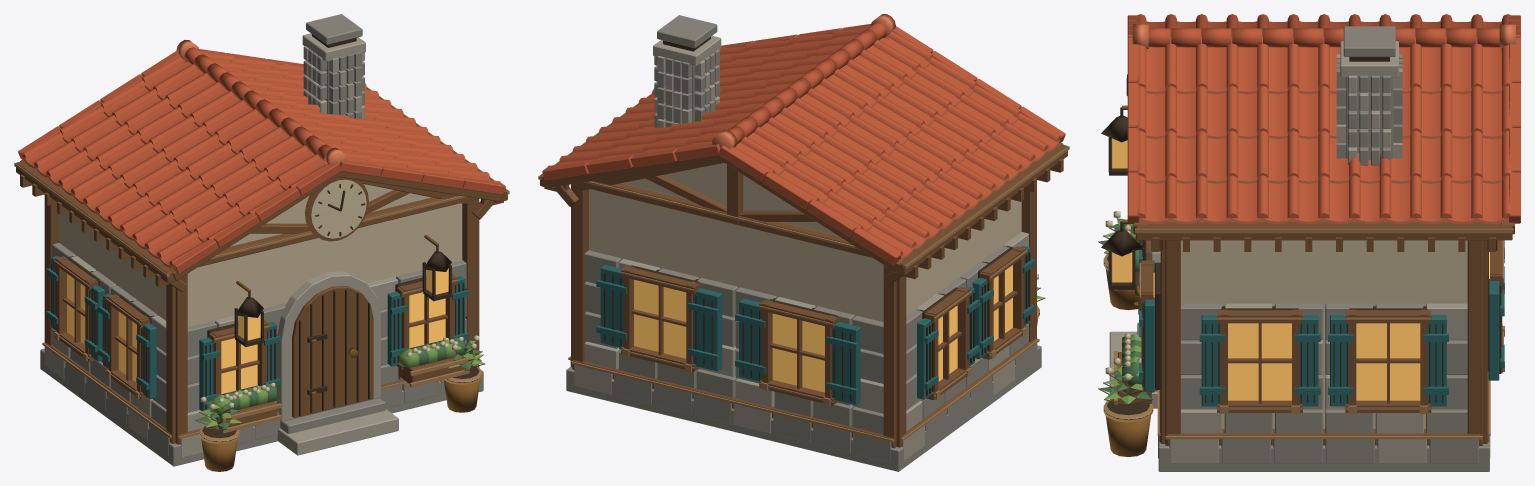
The picture shows the model from 3 angles, left to right: view 1: azimuth 30°, elevation 25°; view 2: azimuth 150°, elevation 25°; view 3: azimuth 270°, elevation 25°; orthographic projection. The views are drawn at different scales.
Visible parts, largest first — view 1: alpine_rush_station_geometry, alpine_rush_station_geometry ceramic; view 2: alpine_rush_station_geometry, alpine_rush_station_geometry ceramic; view 3: alpine_rush_station_geometry, alpine_rush_station_geometry ceramic.
Boxes of the visible parts, box(x1,y1,x2,y2) form: alpine_rush_station_geometry: box(14, 14, 509, 471); alpine_rush_station_geometry ceramic: box(18, 40, 505, 273); alpine_rush_station_geometry: box(538, 15, 1069, 471); alpine_rush_station_geometry ceramic: box(542, 14, 1065, 264); alpine_rush_station_geometry: box(1098, 22, 1514, 471); alpine_rush_station_geometry ceramic: box(1127, 14, 1520, 223).
Size of the model in its own units: 1.04 by 0.9181 by 0.8874.
